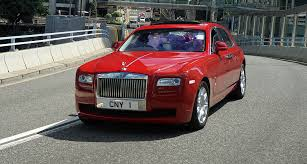number_plate: (93, 97, 151, 113)
